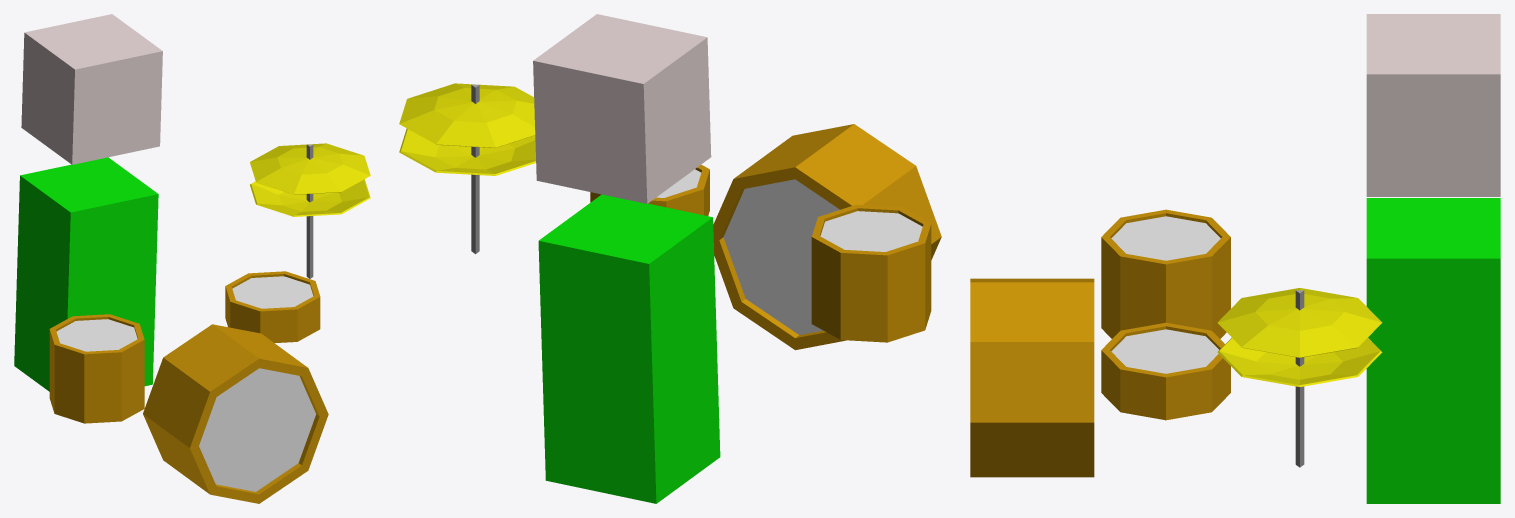
File: DrummerMan.fbx
3 views of the same model, side by side, from view 1: azimuth 30°, elevation 25°; view 2: azimuth 150°, elevation 25°; view 3: azimuth 270°, elevation 25° (orthographic). The views are drawn at different scales.
Parts seen in each view (by area): view 1: DrummerMesh, DrumBase, LowTom, DrumSnare, CymbalTop, CymbalBottem; view 2: DrummerMesh, DrumBase, LowTom, CymbalTop, CymbalBottem, DrumSnare; view 3: DrummerMesh, DrumBase, LowTom, DrumSnare, CymbalTop, CymbalBottem.
Boxes of the visible parts, bbox=[...] form: DrummerMesh: bbox=[14, 14, 162, 391]; DrumBase: bbox=[143, 324, 328, 503]; LowTom: bbox=[49, 314, 144, 423]; DrumSnare: bbox=[225, 271, 320, 342]; CymbalTop: bbox=[250, 143, 370, 278]; CymbalBottem: bbox=[250, 179, 370, 216]; DrummerMesh: bbox=[533, 14, 720, 503]; DrumBase: bbox=[713, 124, 941, 350]; LowTom: bbox=[811, 205, 931, 342]; CymbalTop: bbox=[399, 83, 535, 254]; CymbalBottem: bbox=[399, 128, 535, 175]; DrumSnare: bbox=[590, 164, 709, 215]; DrummerMesh: bbox=[1366, 14, 1500, 503]; DrumBase: bbox=[970, 278, 1094, 477]; LowTom: bbox=[1101, 209, 1230, 338]; DrumSnare: bbox=[1101, 322, 1230, 420]; CymbalTop: bbox=[1217, 288, 1382, 467]; CymbalBottem: bbox=[1217, 338, 1382, 386].
Size of the model in its own units: 2.05 by 1.82 by 1.98.
